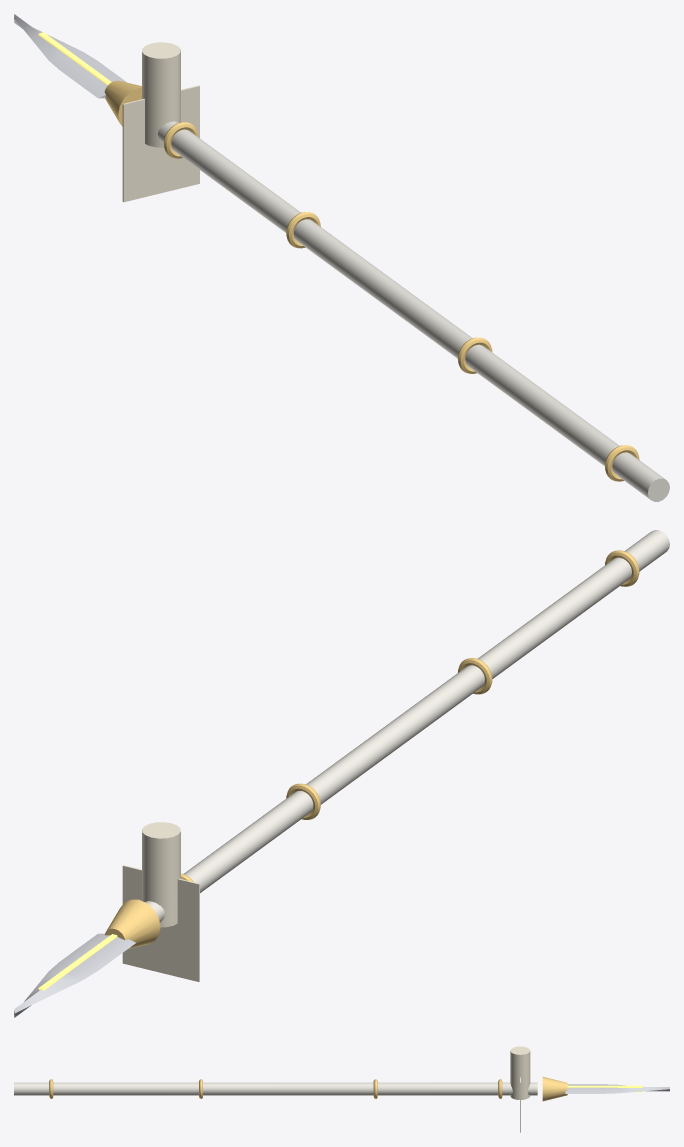
Rendered from lanza_tesis.glb.
The picture shows the model from 3 angles, top to bottom: view 1: azimuth 30°, elevation 25°; view 2: azimuth 150°, elevation 25°; view 3: azimuth 270°, elevation 25°; orthographic projection. The views are drawn at different scales.
Visible parts, largest first — view 1: lanza_tesis; view 2: lanza_tesis; view 3: lanza_tesis.
Part boxes in pixels (bbox=[...]): lanza_tesis: bbox=[14, 14, 669, 501]; lanza_tesis: bbox=[14, 530, 669, 1017]; lanza_tesis: bbox=[14, 1046, 669, 1132].
Bounding box in the file's own units: 0.18 × 0.32 × 2.63.
